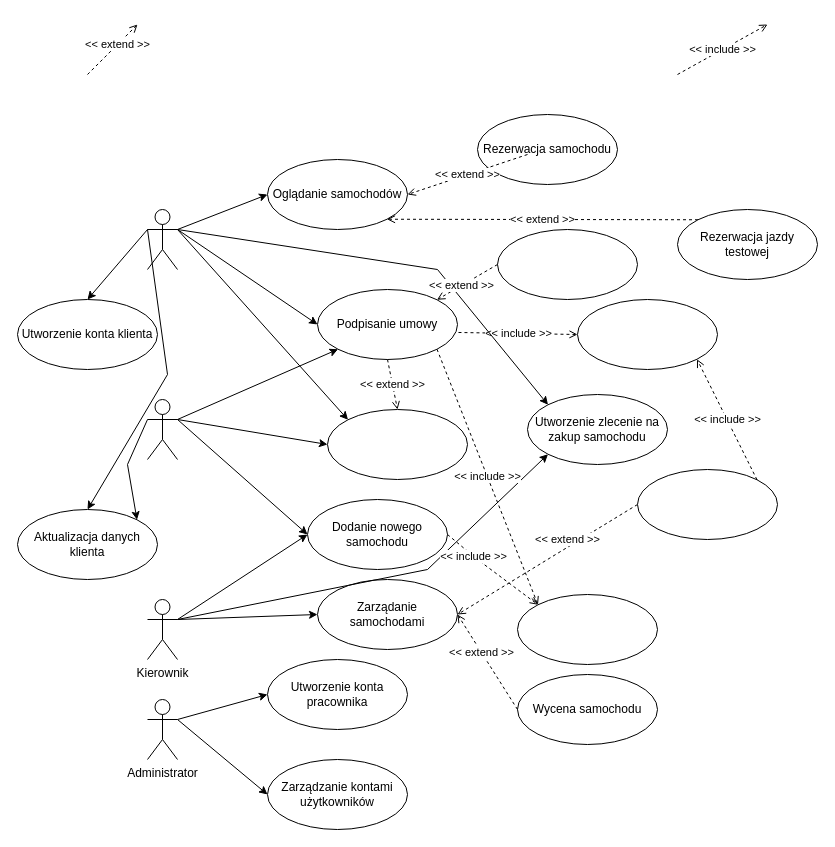
Some shapes in this 835 by 847 pixel diagram are drawn without their labels. The centre of each missing label's shape, as x and y in pixels:
"Aktualizacja listy samochodów" belongs at (587,629).
"Handlowiec" belongs at (162,429).
"Klient" belongs at (162,239).
"Naprawa Samochodu" belongs at (707,504).
"Negocjacja ceny" belongs at (397,444).
"Płatność" belongs at (647,334).
"Ubezpieczenie samochodu" belongs at (567,264).
